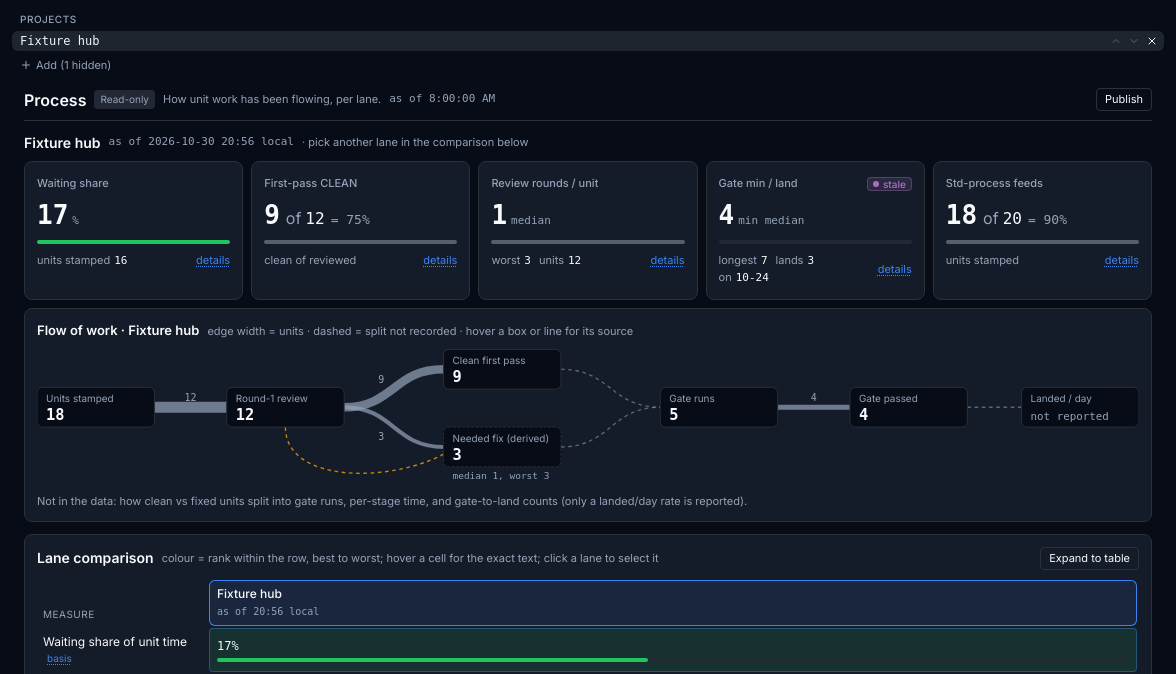
COMP-COCKPIT-FLEET-PROJECTS-1 PROJECTS list › add from the picker POSTs the longer list and the lane comes back last
Click the button with test id "fleet-projects-add".
click(84, 65)  # box [12, 55, 1164, 76]
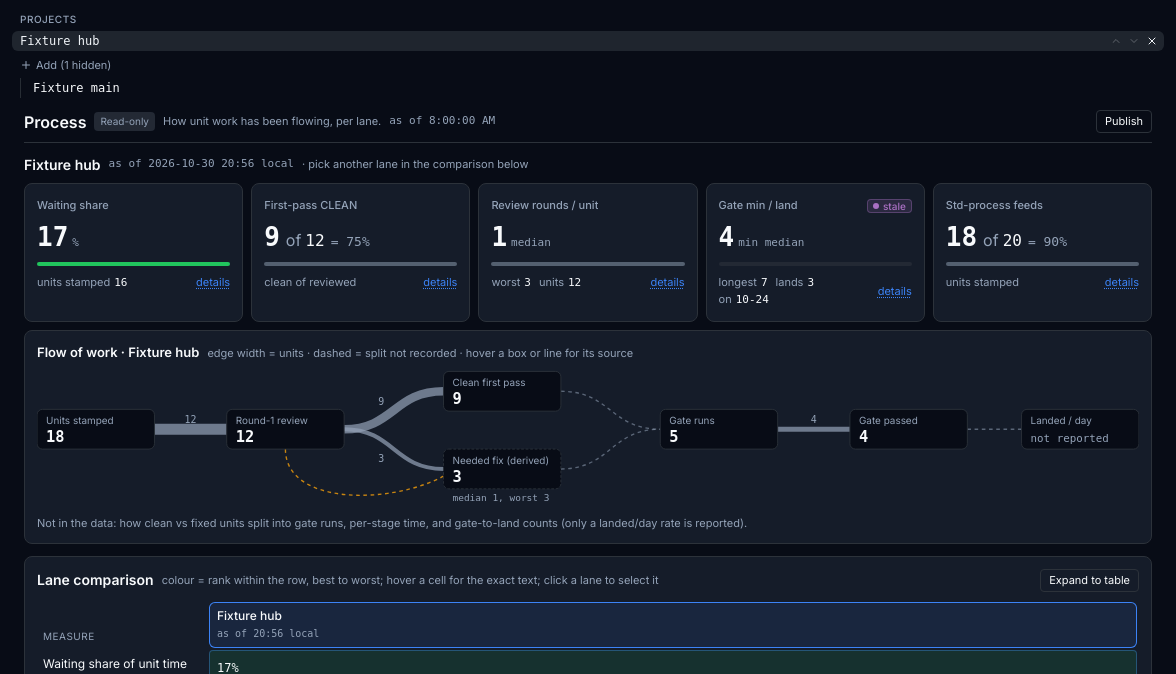
Click the button with test id "fleet-projects-add-main".
click(76, 88)  # box [25, 78, 1164, 98]
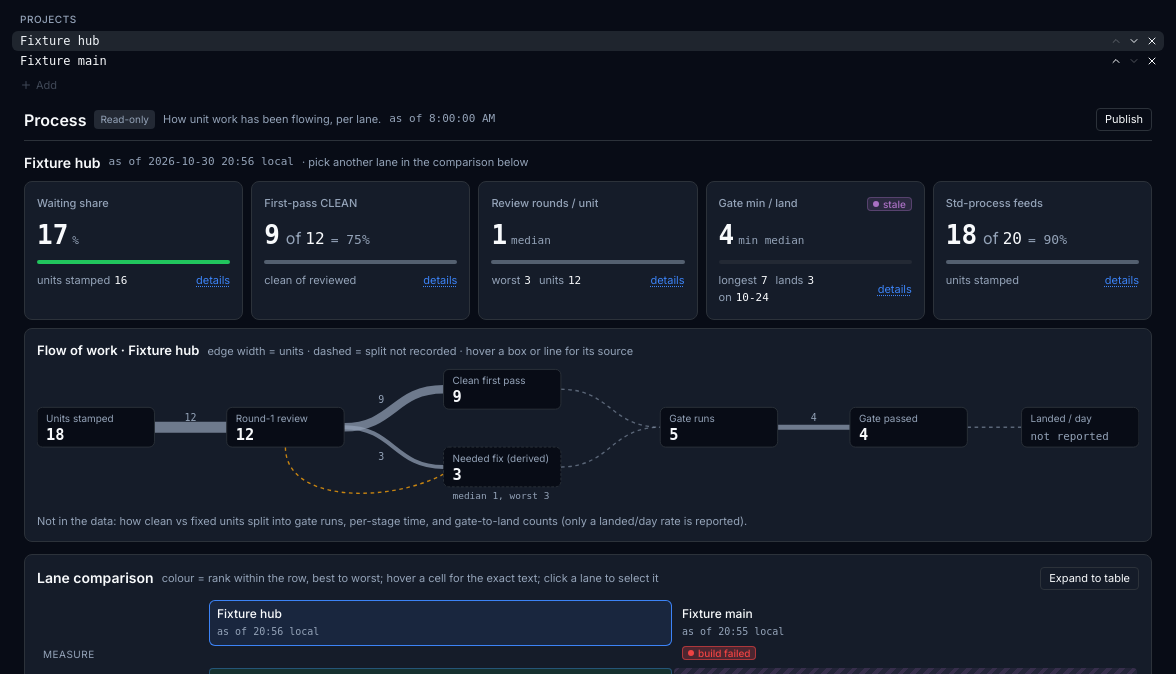
Expected: the element with test id "fleet-projects-add-picker" is gone
